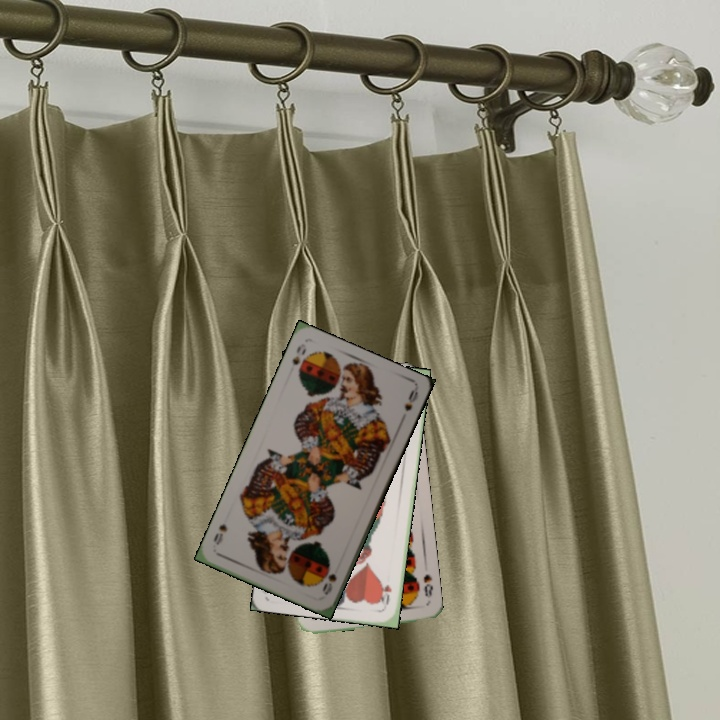HO: (377, 579, 394, 607)
S8: (419, 570, 436, 600)
SO: (288, 342, 309, 374), (318, 569, 339, 598)
